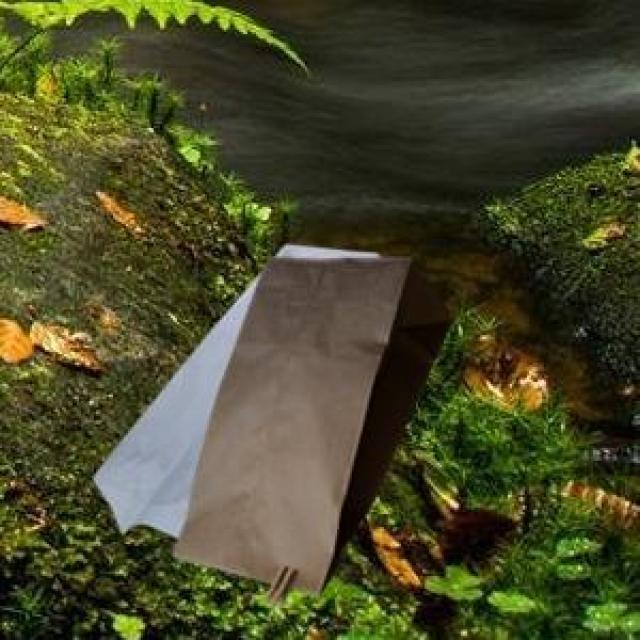paper: (169, 254, 450, 604)
